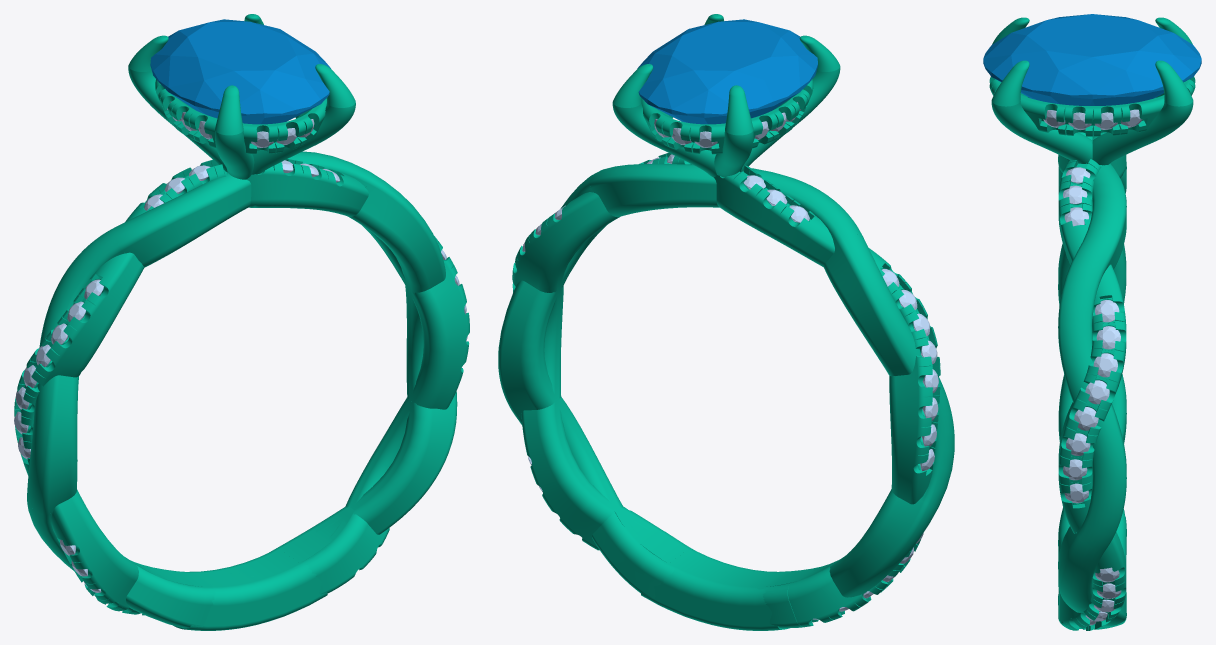
3 renders of one model, left to right at view 1: azimuth 30°, elevation 25°; view 2: azimuth 150°, elevation 25°; view 3: azimuth 270°, elevation 25°, orthographic.
Parts seen in each view (by area): view 1: RING.JTC.SRO3(front).3dm, Diamond_Oval; view 2: RING.JTC.SRO3(front).3dm, Diamond_Oval; view 3: RING.JTC.SRO3(front).3dm, Diamond_Oval, Diamond_Round (×10).
Boxes of the visible parts, box(x1,y1,x2,y2) form: RING.JTC.SRO3(front).3dm: box(14, 14, 469, 630); Diamond_Oval: box(150, 19, 330, 124); RING.JTC.SRO3(front).3dm: box(498, 14, 954, 630); Diamond_Oval: box(637, 19, 817, 124); RING.JTC.SRO3(front).3dm: box(989, 17, 1195, 630); Diamond_Oval: box(983, 14, 1201, 105); Diamond_Round (×10): box(1063, 185, 1120, 503).
Bounding box in the file's own units: 2.4 × 3.03 × 1.05.
